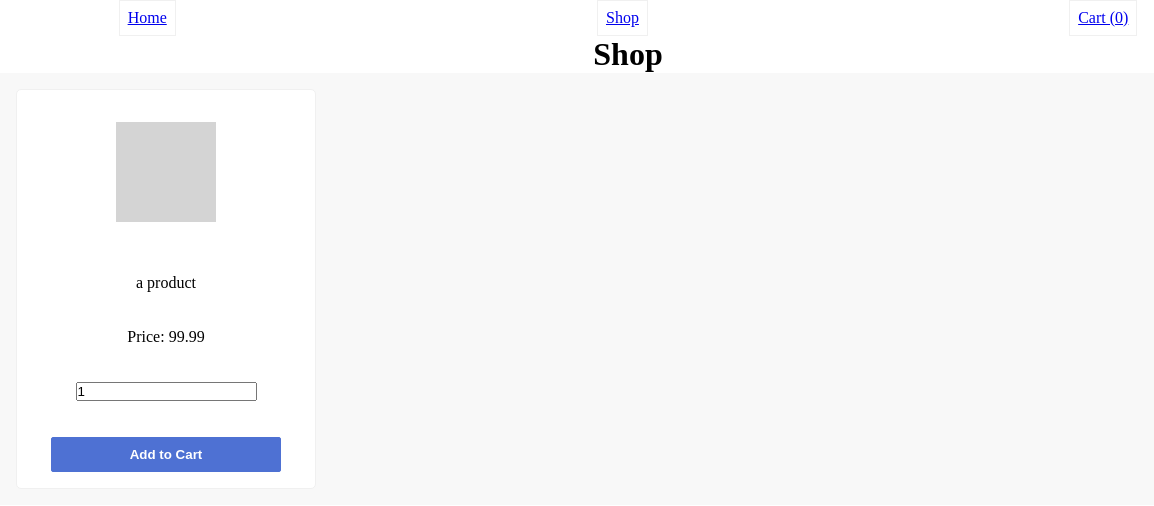
it: Product component › when a product is in the cart › when updating the product quantity › updates the cart navigation menu quantity
Click the button "Add to Cart": (166, 454) [51,437,281,472]
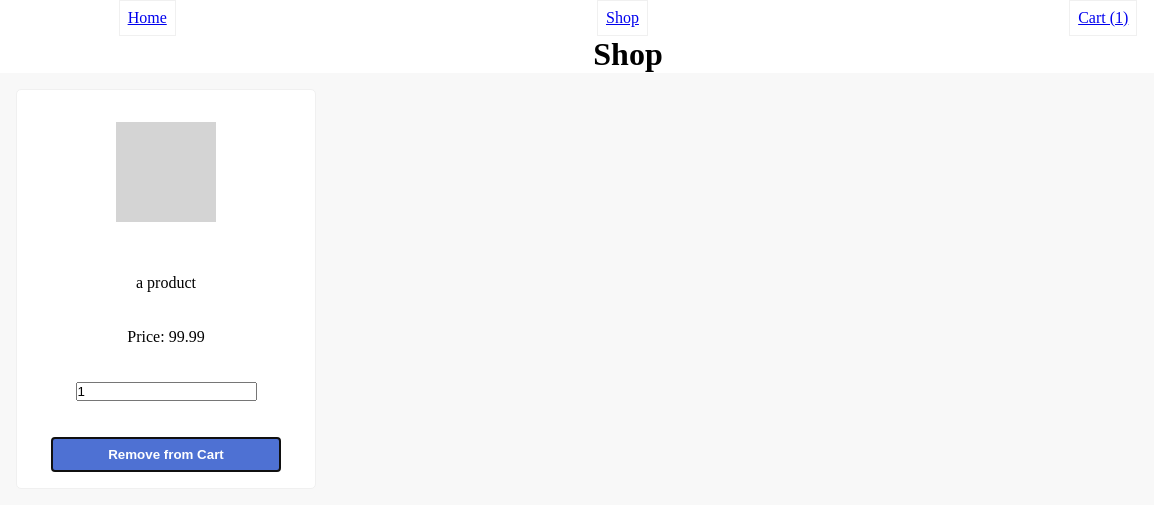
Result: the link named "Cart (0)" reads "Cart (1)" at [1069,0,1137,36]
Click the number field: (166, 392) [76,382,256,401]
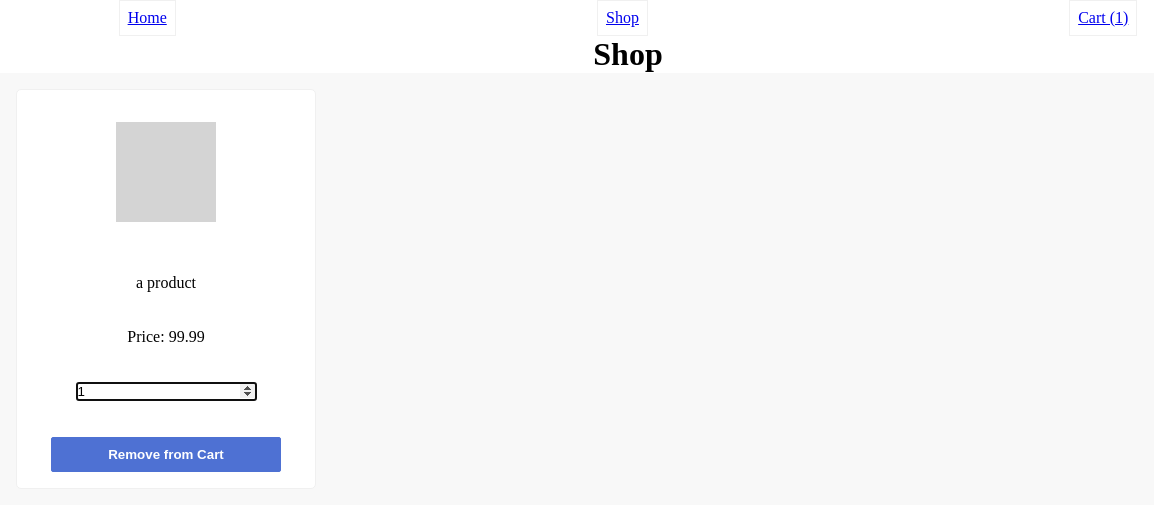
Type keys "{Control>}A{/Control}{3}"
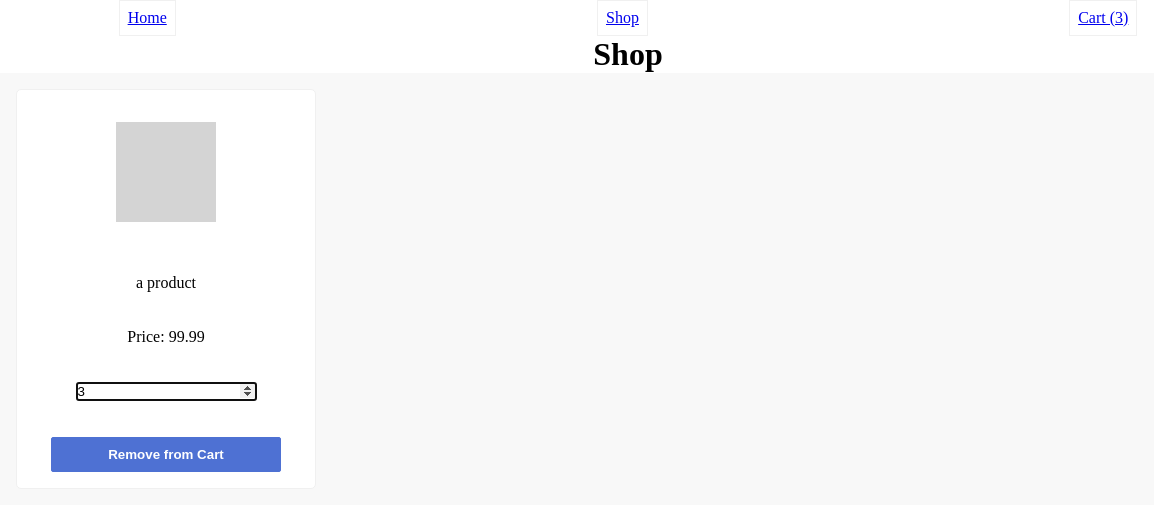
Result: the number field holds "3" at [76,382,256,401]
Result: the link named "Cart (0)" reads "Cart (3)" at [1069,0,1137,36]
